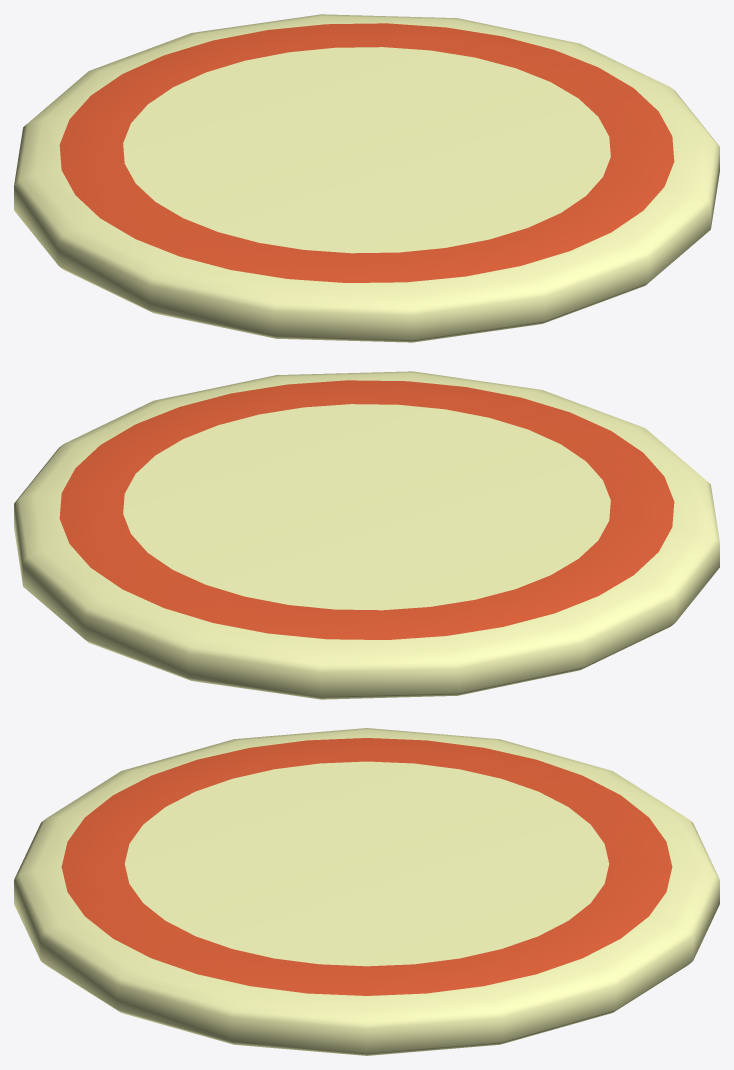
File: shrinking platform.fbx
3 views of the same model, one above another, from view 1: azimuth 30°, elevation 25°; view 2: azimuth 150°, elevation 25°; view 3: azimuth 270°, elevation 25° (orthographic).
Parts seen in each view (by area): view 1: Cylinder; view 2: Cylinder; view 3: Cylinder.
Part boxes in pixels (box(x1,y1,x2,y2)): Cylinder: box(14, 14, 719, 342); Cylinder: box(14, 371, 719, 699); Cylinder: box(14, 728, 719, 1055).
Bounding box in the file's own units: 200 × 17.55 × 200.
